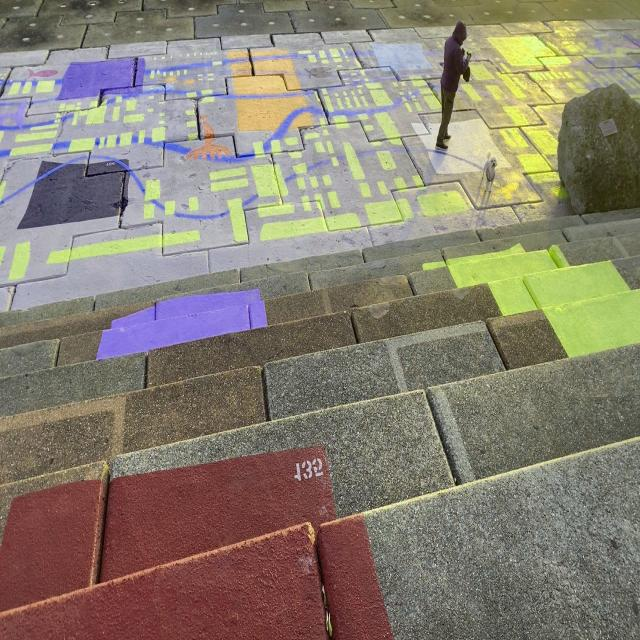Unleashed_Dog: (448, 68, 498, 194)
